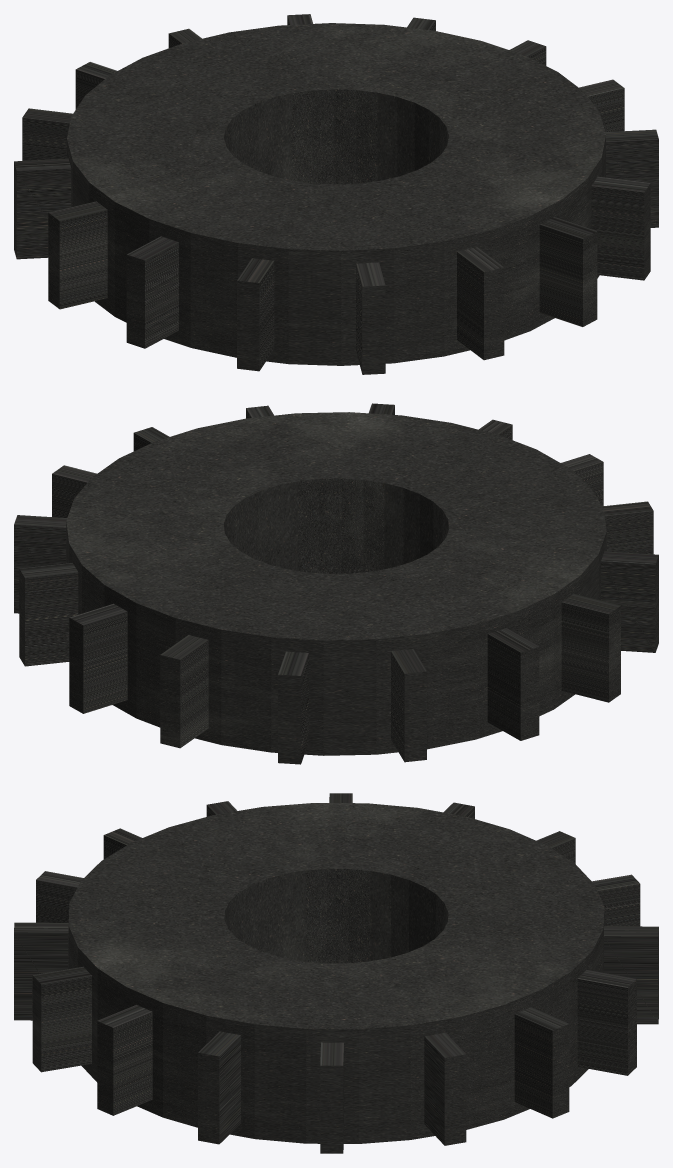
The model's file is Gear_Tree_gear_big.glb.
3 views of the same model, one above another, from view 1: azimuth 30°, elevation 25°; view 2: azimuth 150°, elevation 25°; view 3: azimuth 270°, elevation 25° (orthographic).
Parts seen in each view (by area): view 1: Cylinder.012; view 2: Cylinder.012; view 3: Cylinder.012.
Part boxes in pixels (left/top/right/bottom): Cylinder.012: left=14, top=14, right=658, bottom=374; Cylinder.012: left=14, top=403, right=658, bottom=764; Cylinder.012: left=14, top=793, right=658, bottom=1153.
Size of the model in its own units: 7.44 by 1.46 by 7.44.
1 material, 1 textured.
